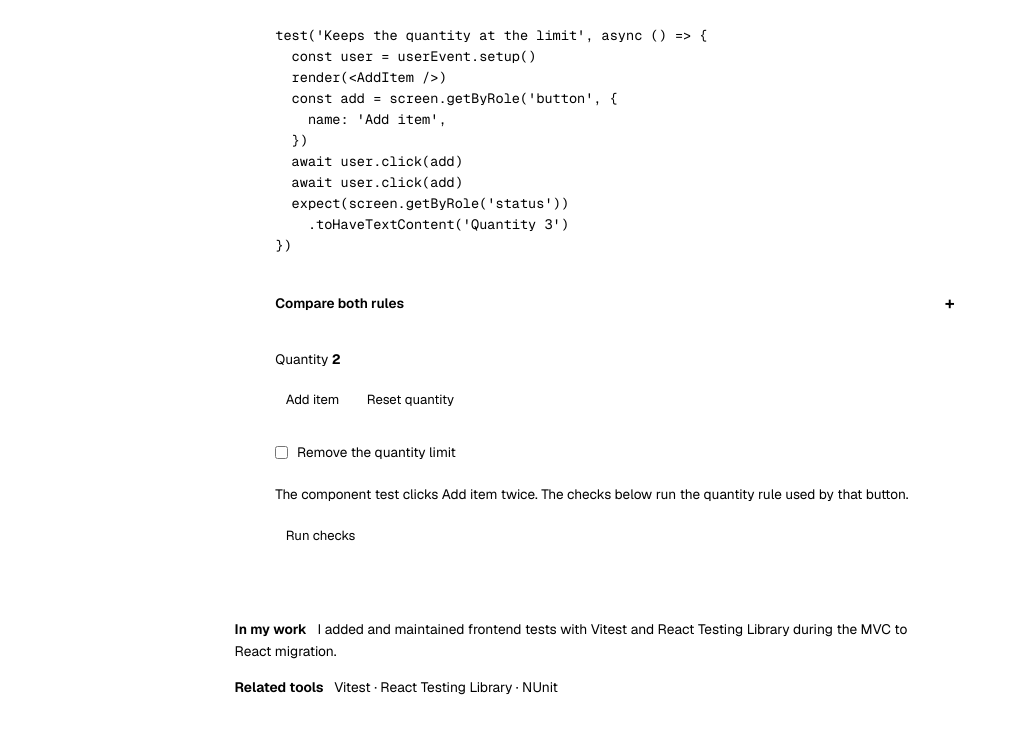
shows the component test and catches an introduced regression in the quantity rule
Earlier steps of the test are not shown.
(page scrolled)
Expected: the text "user.click(add)" is shown, top-left (275, 26), bottom-right (708, 254)
Double-click the button "Add item" at (312, 400), box top-left (275, 378), bottom-right (350, 422)
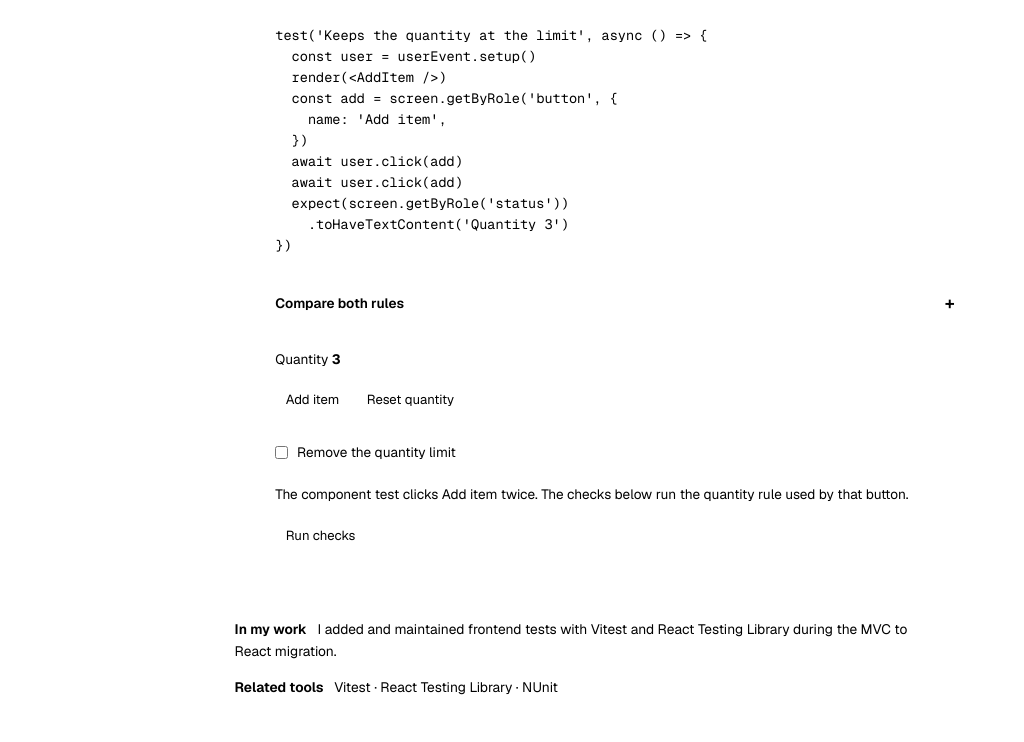
Now the element showing "Quantity 3" is shown, box top-left (275, 349), bottom-right (340, 370)
Click the button "Run checks". click: (321, 536)
box: top-left (275, 514), bottom-right (366, 558)
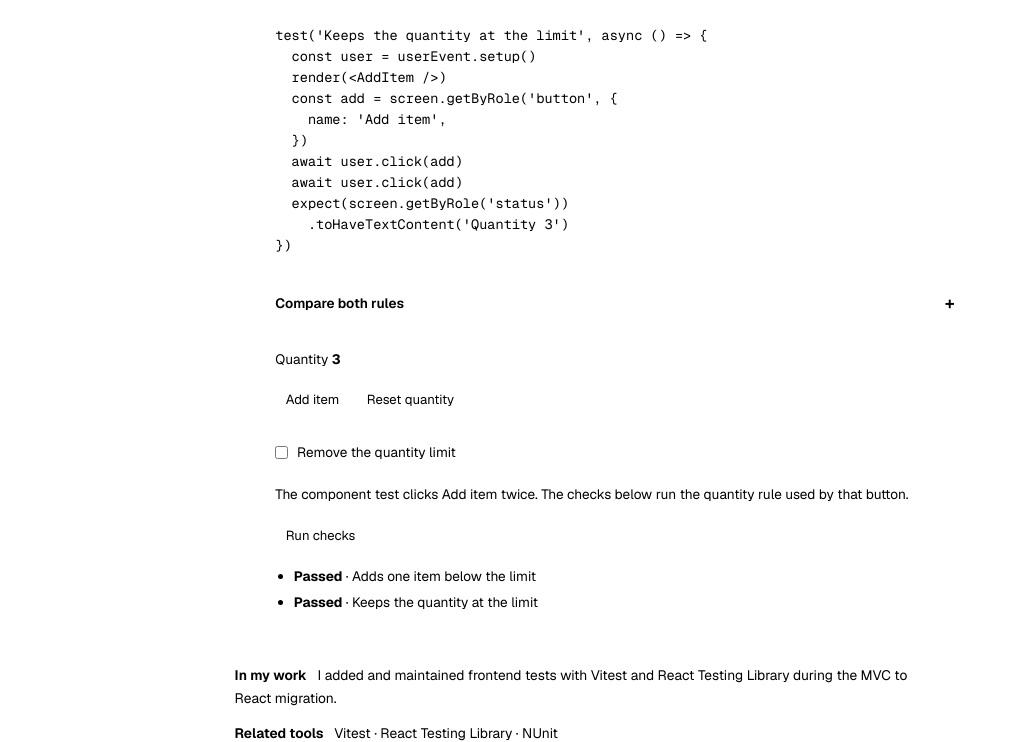
Now the text "Passed" is shown 2 times, box top-left (294, 567), bottom-right (342, 585); top-left (294, 593), bottom-right (342, 611)
Click the checkbox labelled "Remove the quantity limit". click: (282, 453)
box: top-left (275, 446), bottom-right (288, 459)
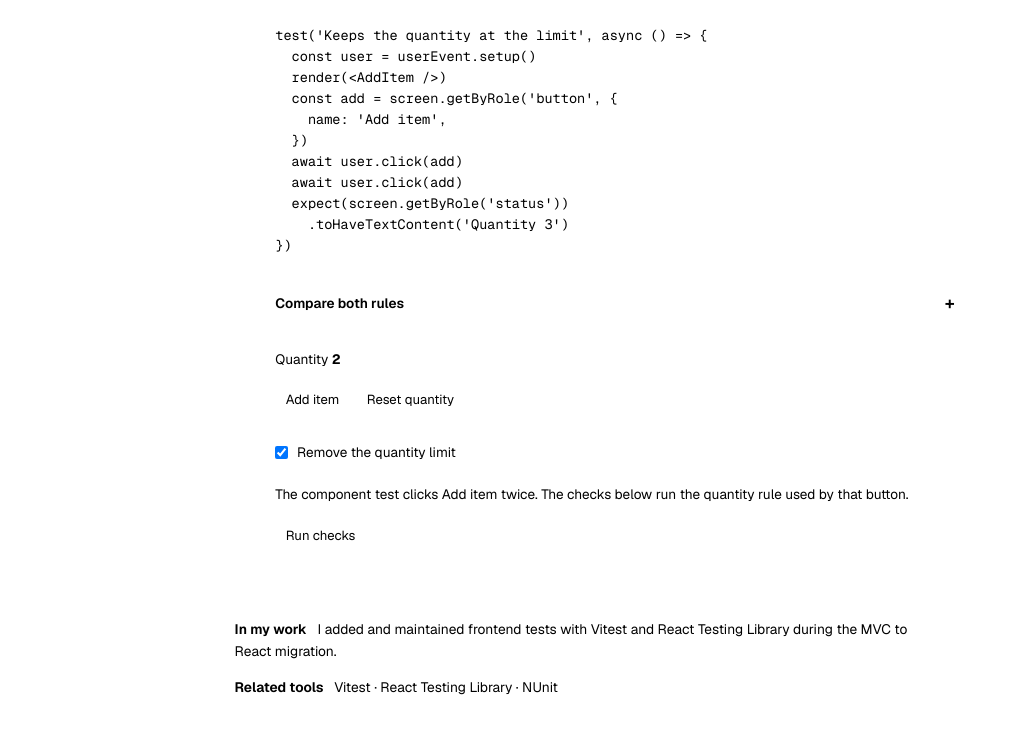
Double-click the button "Add item" at (312, 400), box top-left (275, 378), bottom-right (350, 422)
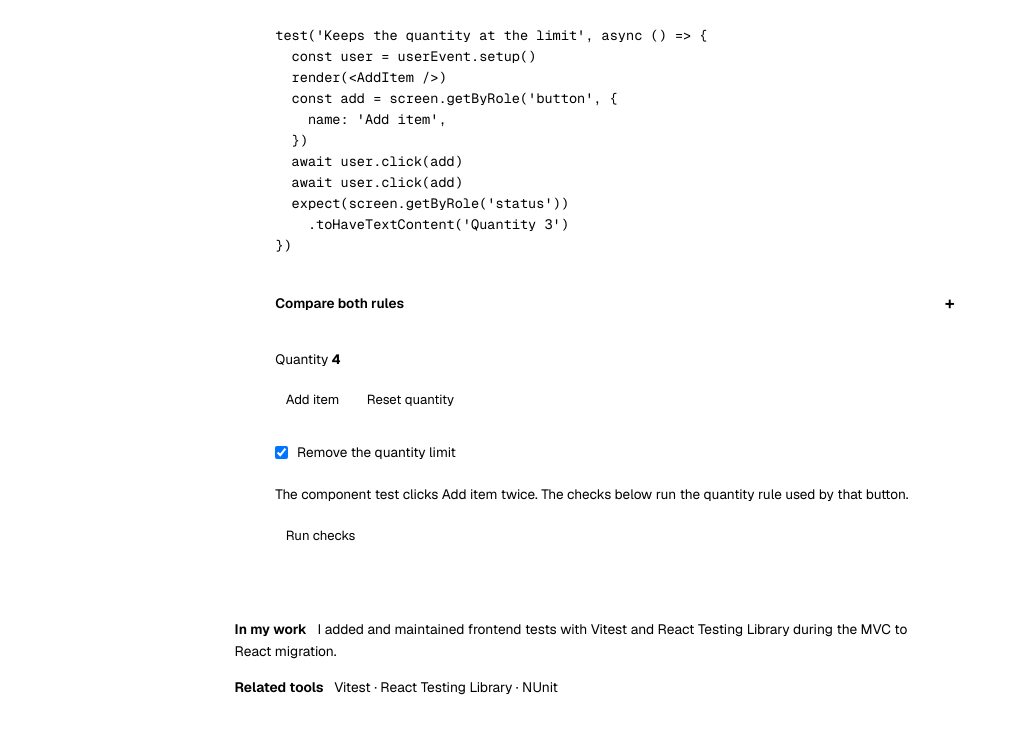
Now the element showing "Quantity 4" is shown, box top-left (275, 349), bottom-right (341, 370)
Click the button "Run checks". click: (321, 536)
box: top-left (275, 514), bottom-right (366, 558)
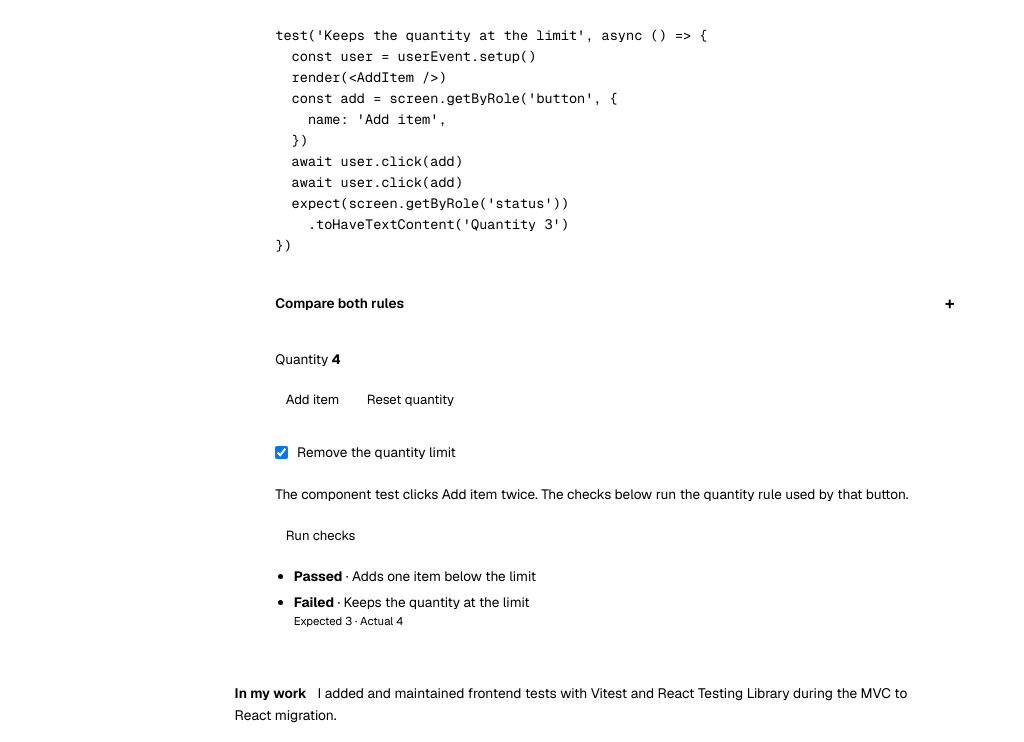
Now the text "Passed" is shown, box top-left (294, 567), bottom-right (342, 585)
Now the text "Failed" is shown, box top-left (294, 593), bottom-right (334, 611)
Now the text "Expected 3 · Actual 4" is shown, box top-left (294, 614), bottom-right (403, 628)
Click the button "Reset quantity". click: (410, 400)
box: top-left (356, 378), bottom-right (464, 422)
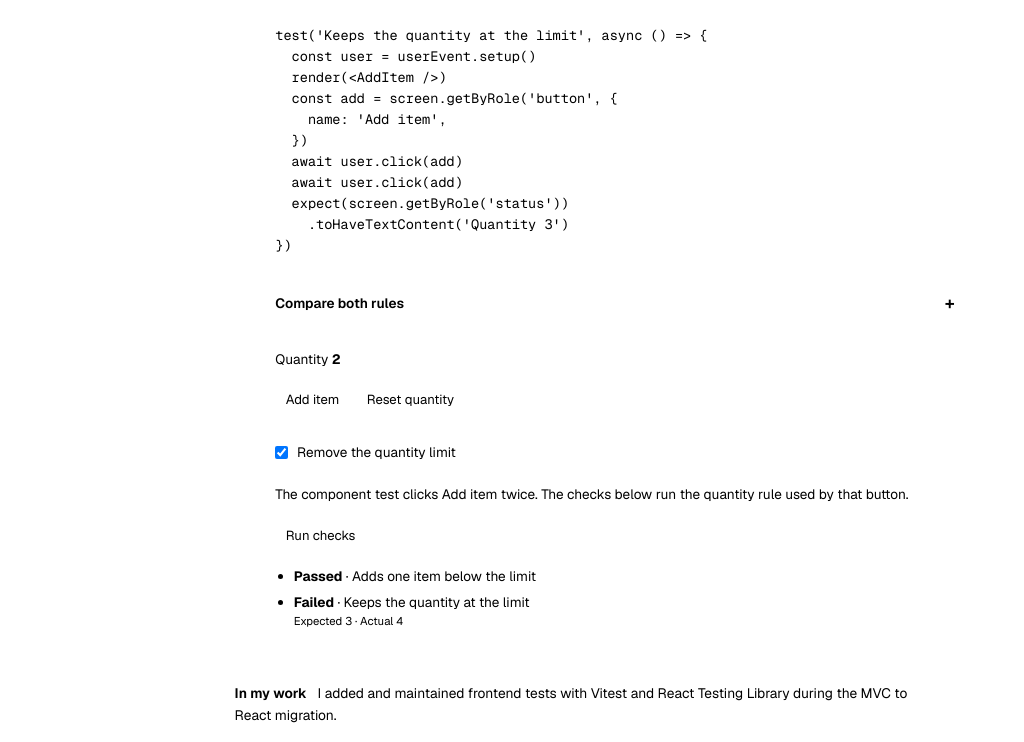
Now the element showing "Quantity 2" is shown, box top-left (275, 349), bottom-right (341, 370)
